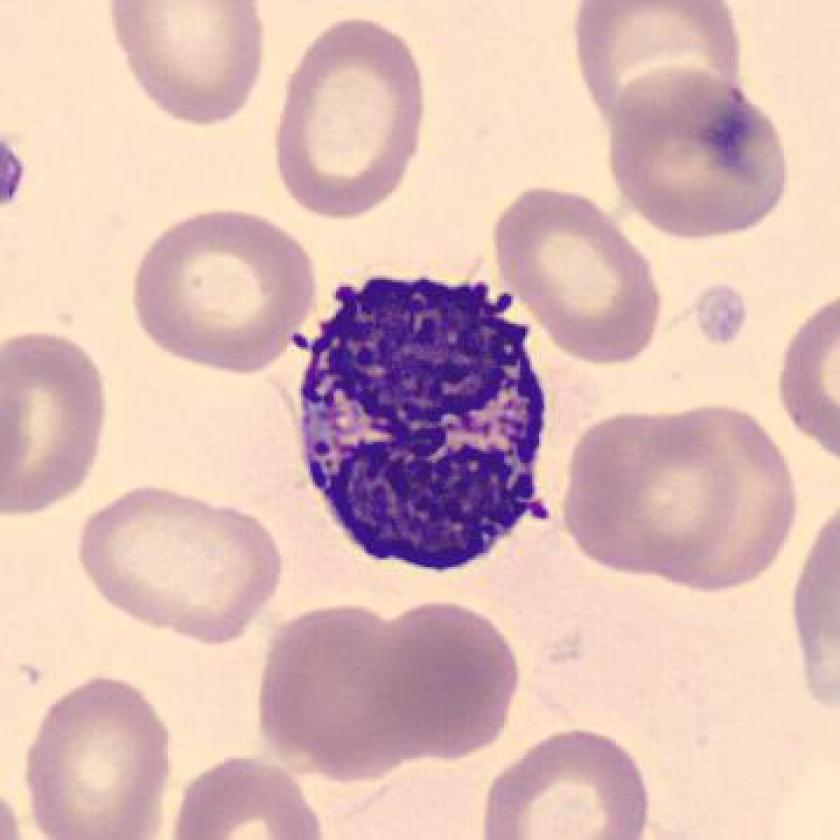basophil: (295, 265, 556, 575)
